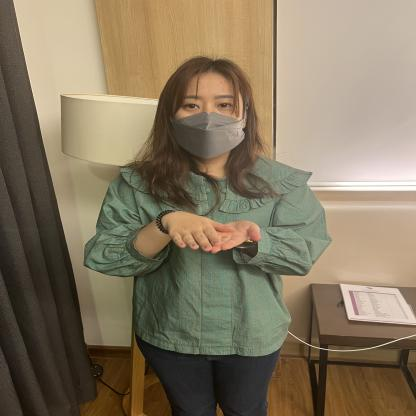Love: (124, 192, 264, 250)
